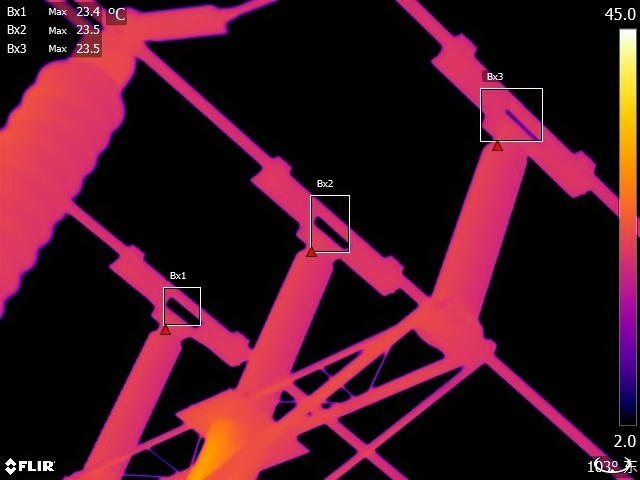post insulator: (1, 40, 151, 312), (234, 240, 348, 412), (431, 132, 533, 320), (80, 321, 183, 480)
